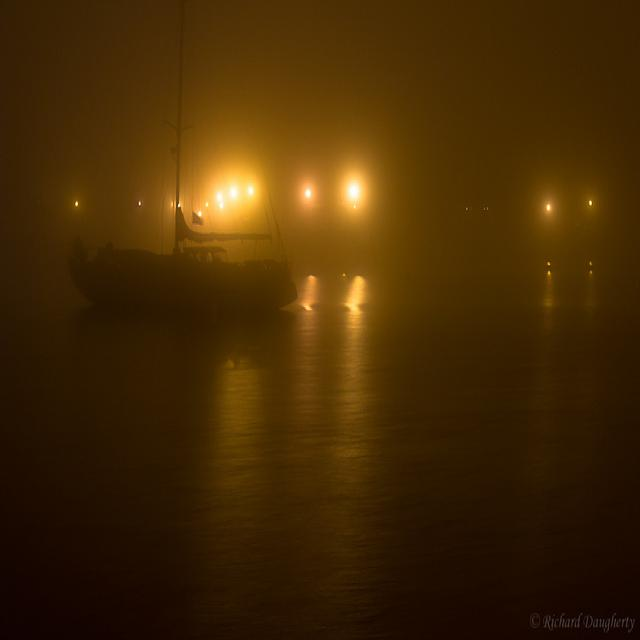Boat: (60, 0, 308, 349)
